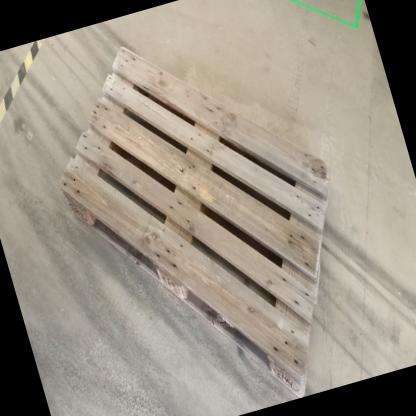BoxFace: (53, 38, 332, 400)
